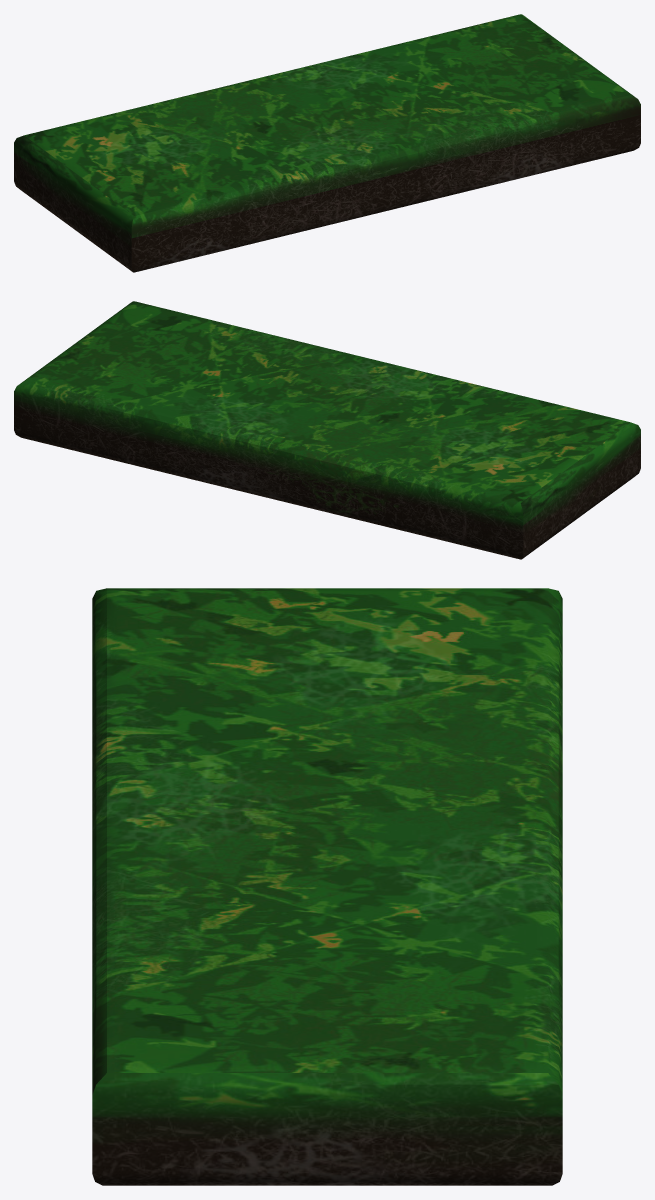
Rendered from Platform_1.fbx.
3 renders of one model, top to bottom at view 1: azimuth 30°, elevation 25°; view 2: azimuth 150°, elevation 25°; view 3: azimuth 270°, elevation 25°, orthographic. The views are drawn at different scales.
Visible parts, largest first — view 1: pCube1; view 2: pCube1; view 3: pCube1.
Part boxes in pixels (x1=…): pCube1: x1=14, y1=14, x2=640, y2=272; pCube1: x1=14, y1=301, x2=640, y2=559; pCube1: x1=92, y1=588, x2=562, y2=1185.
Bounding box in the file's own units: 10 × 1.09 × 4.
1 material, 1 textured.
